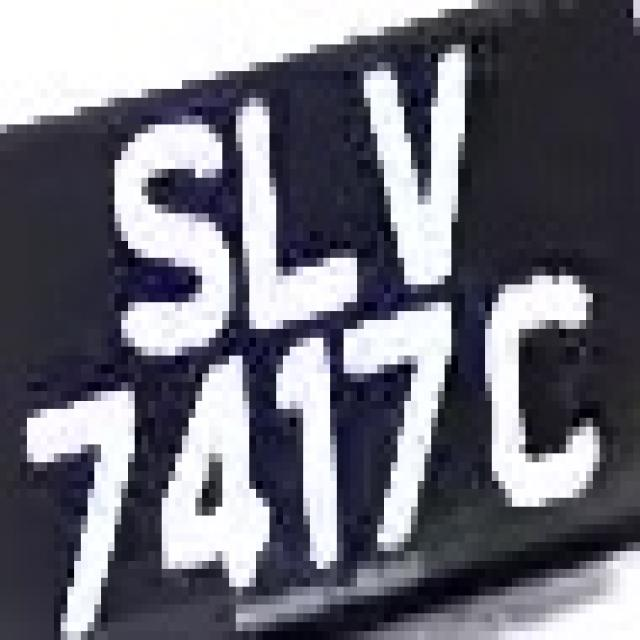1: (263, 302, 350, 604)
4: (128, 329, 276, 640)
7: (324, 276, 478, 596), (0, 5, 2, 9)
C: (465, 258, 620, 542)
L: (222, 53, 370, 338)
S: (88, 89, 249, 373)
V: (344, 9, 505, 293)
